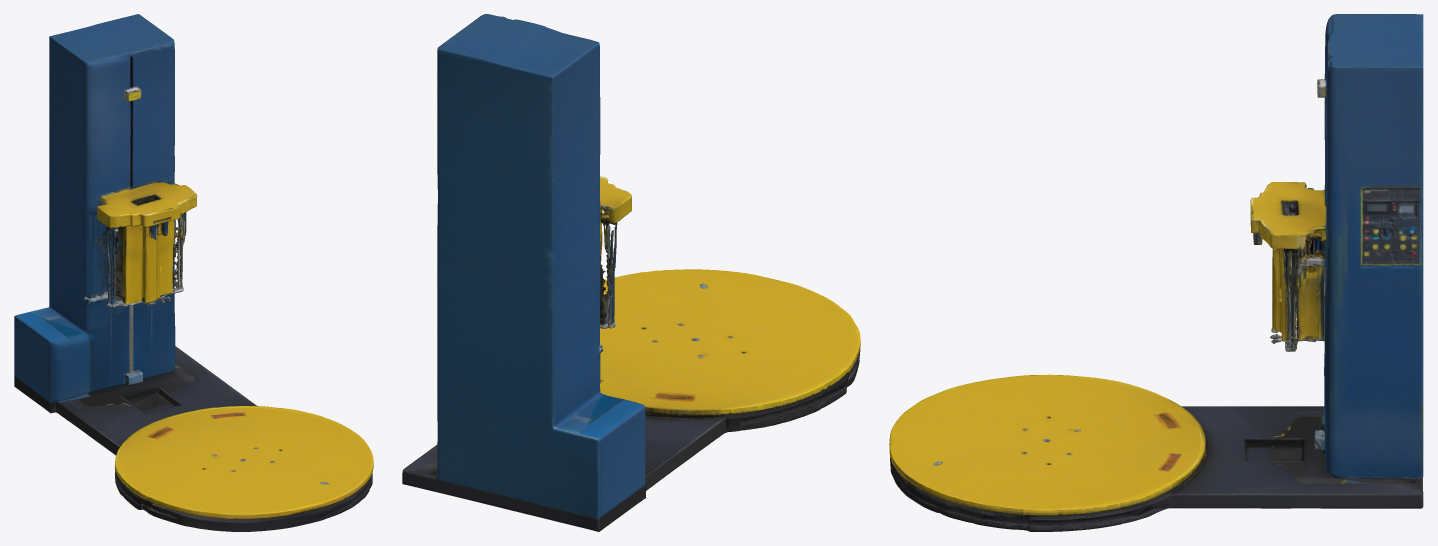
The model's file is Wrapping_Machine.glb.
The picture shows the model from 3 angles, left to right: view 1: azimuth 30°, elevation 25°; view 2: azimuth 150°, elevation 25°; view 3: azimuth 270°, elevation 25°; orthographic projection. The views are drawn at different scales.
Bounding box in the file's own units: 1.21 × 1.89 × 2.01.
1 material, 1 textured.
